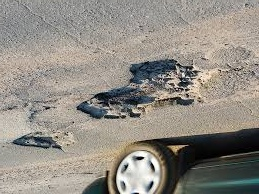pothole: (76, 61, 209, 123), (11, 128, 75, 154)
